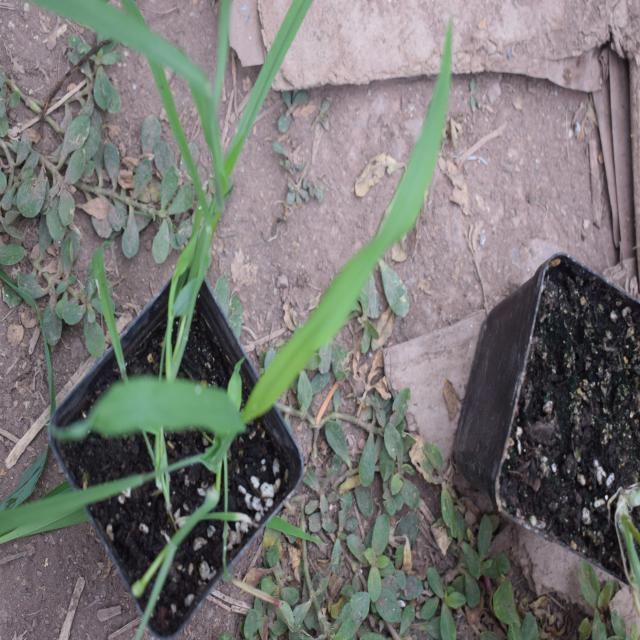crabgrass: (50, 87, 452, 485)
